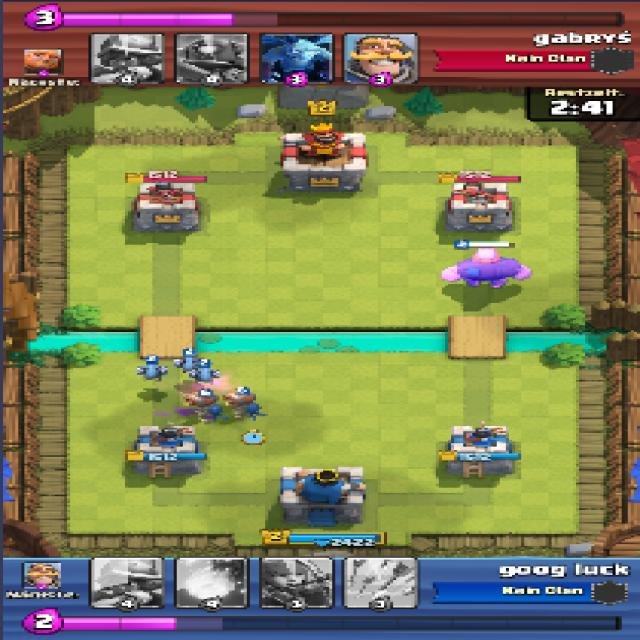Player-Giant: (438, 249, 533, 289)
Player-Minion: (194, 364, 218, 383), (139, 363, 167, 379), (177, 353, 197, 370)
Player-Wallbreaker: (225, 390, 264, 418), (183, 393, 224, 418)
